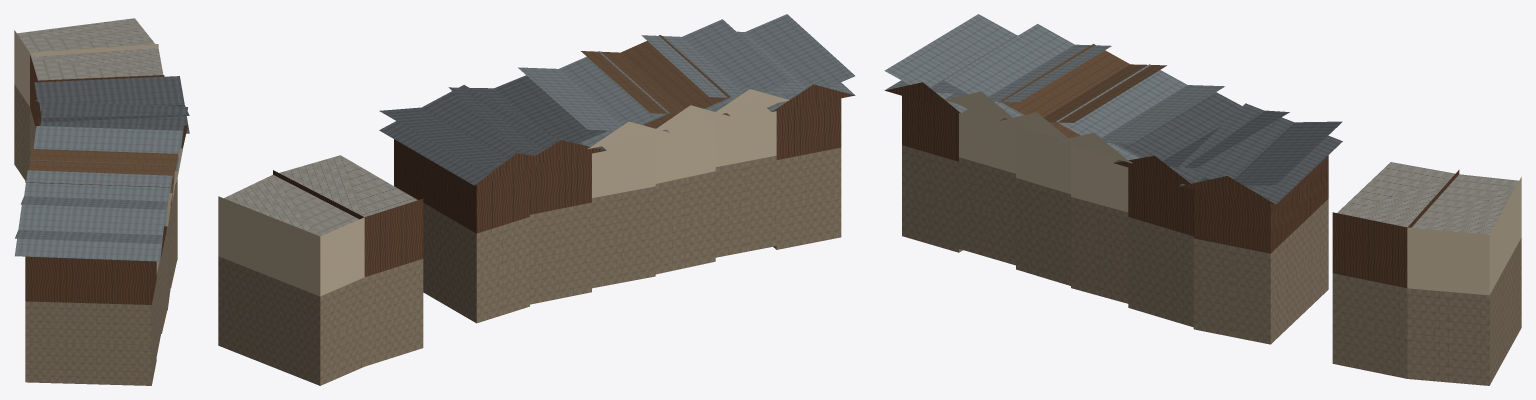
Rendered from bld_c10_9_494.gltf.
3 renders of one model, left to right at view 1: azimuth 30°, elevation 25°; view 2: azimuth 150°, elevation 25°; view 3: azimuth 270°, elevation 25°, orthographic. The views are drawn at different scales.
Parts seen in each view (by area): view 1: bld_c10_9_494; view 2: bld_c10_9_494; view 3: bld_c10_9_494.
Part boxes in pixels (x1=…): bld_c10_9_494: x1=14, y1=18, x2=189, y2=385; bld_c10_9_494: x1=218, y1=14, x2=855, y2=385; bld_c10_9_494: x1=884, y1=14, x2=1521, y2=385.
Bounding box in the file's own units: 20.72 × 9.6 × 29.29.
9 materials, 9 textured.
